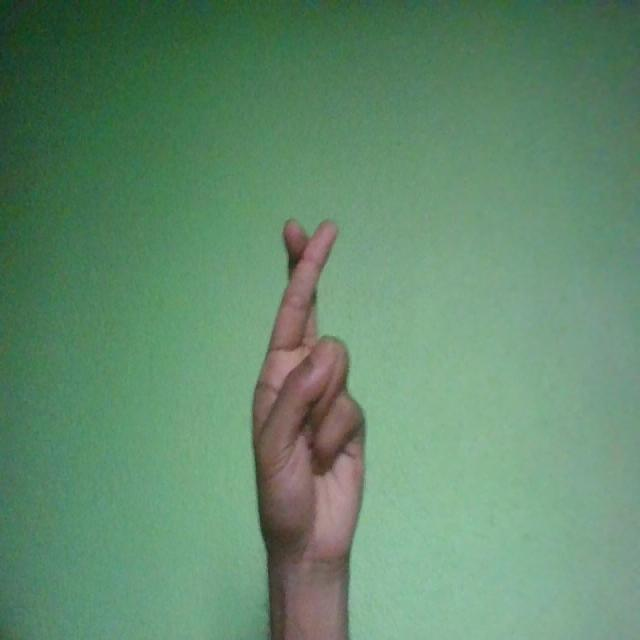Ok: (252, 217, 367, 569)
